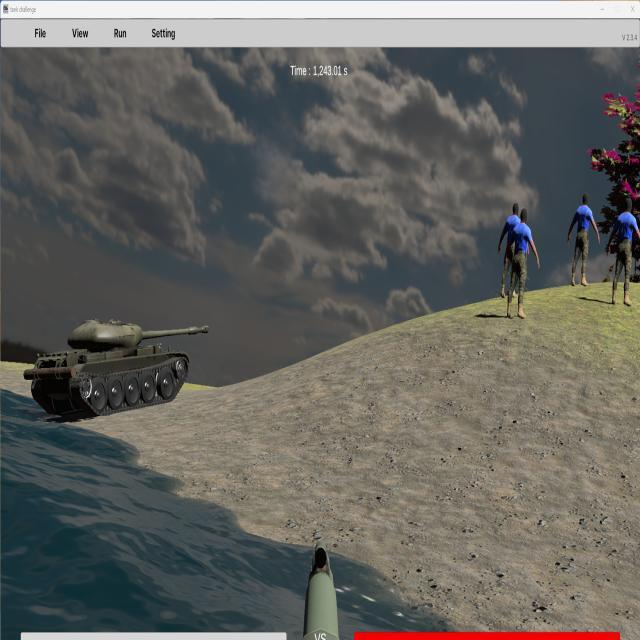Human: (504, 205, 540, 319), (607, 197, 640, 306), (496, 202, 530, 300), (568, 193, 600, 286), (632, 193, 640, 304)
Tank: (24, 317, 209, 419)
